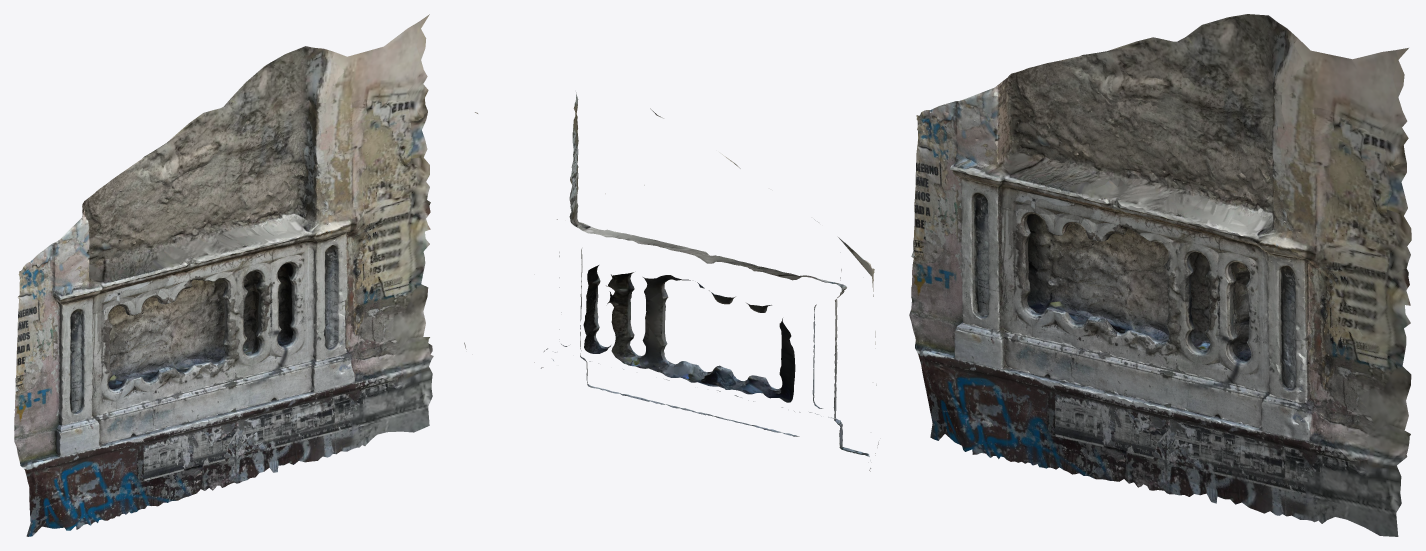
The model's file is frag1.glb.
3 renders of one model, left to right at view 1: azimuth 30°, elevation 25°; view 2: azimuth 150°, elevation 25°; view 3: azimuth 330°, elevation 25°, orthographic. The views are drawn at different scales.
Parts seen in each view (by area): view 1: 6d9df3bda1030dbdeb1439337033d17e01b702cf/Modelo4; view 2: 6d9df3bda1030dbdeb1439337033d17e01b702cf/Modelo4; view 3: 6d9df3bda1030dbdeb1439337033d17e01b702cf/Modelo4.
Part boxes in pixels (<box>): 6d9df3bda1030dbdeb1439337033d17e01b702cf/Modelo4: <box>14,14,433,536</box>; 6d9df3bda1030dbdeb1439337033d17e01b702cf/Modelo4: <box>464,92,878,471</box>; 6d9df3bda1030dbdeb1439337033d17e01b702cf/Modelo4: <box>909,14,1411,536</box>.
Bounding box in the file's own units: 2.1 × 2.05 × 0.1909.
1 material, 1 textured.
